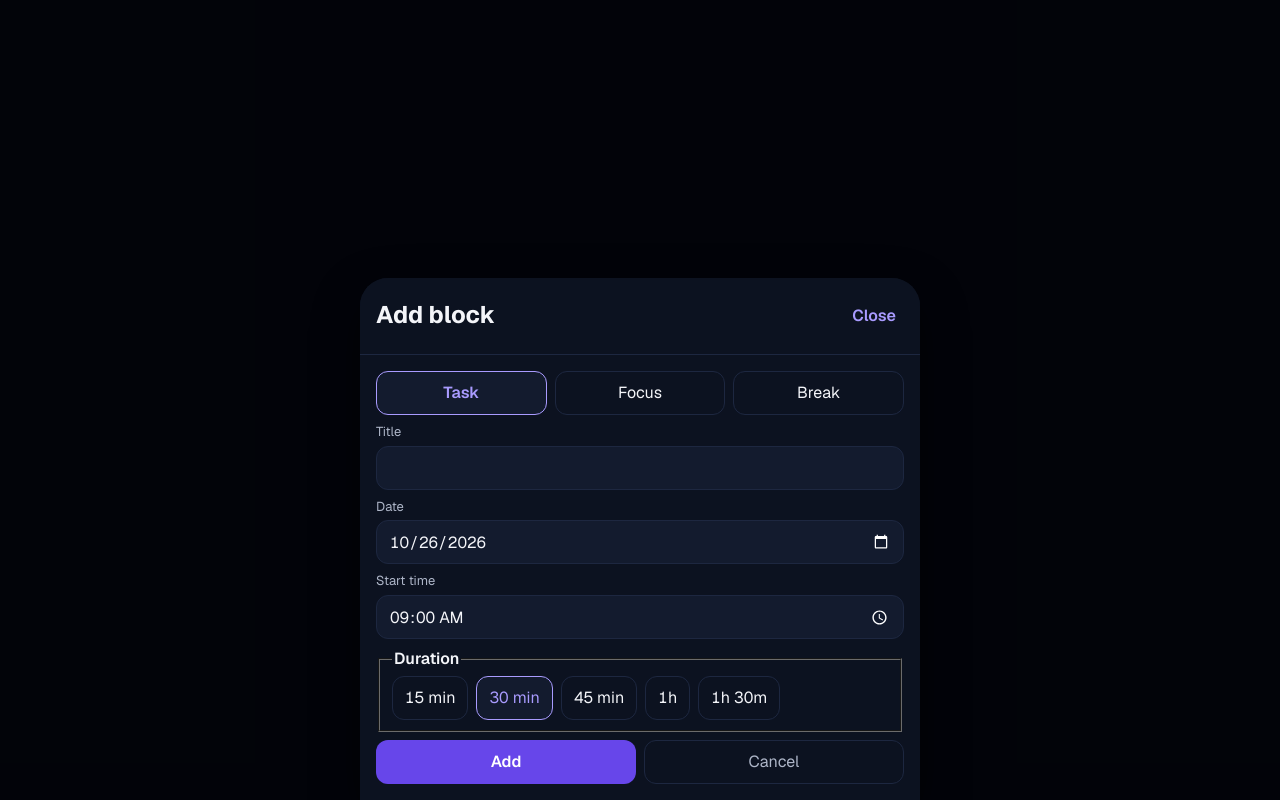
Scenario: keeps the sheet open and explains an empty title
Click the button "Add" at (506, 762), box [376,740,636,784]
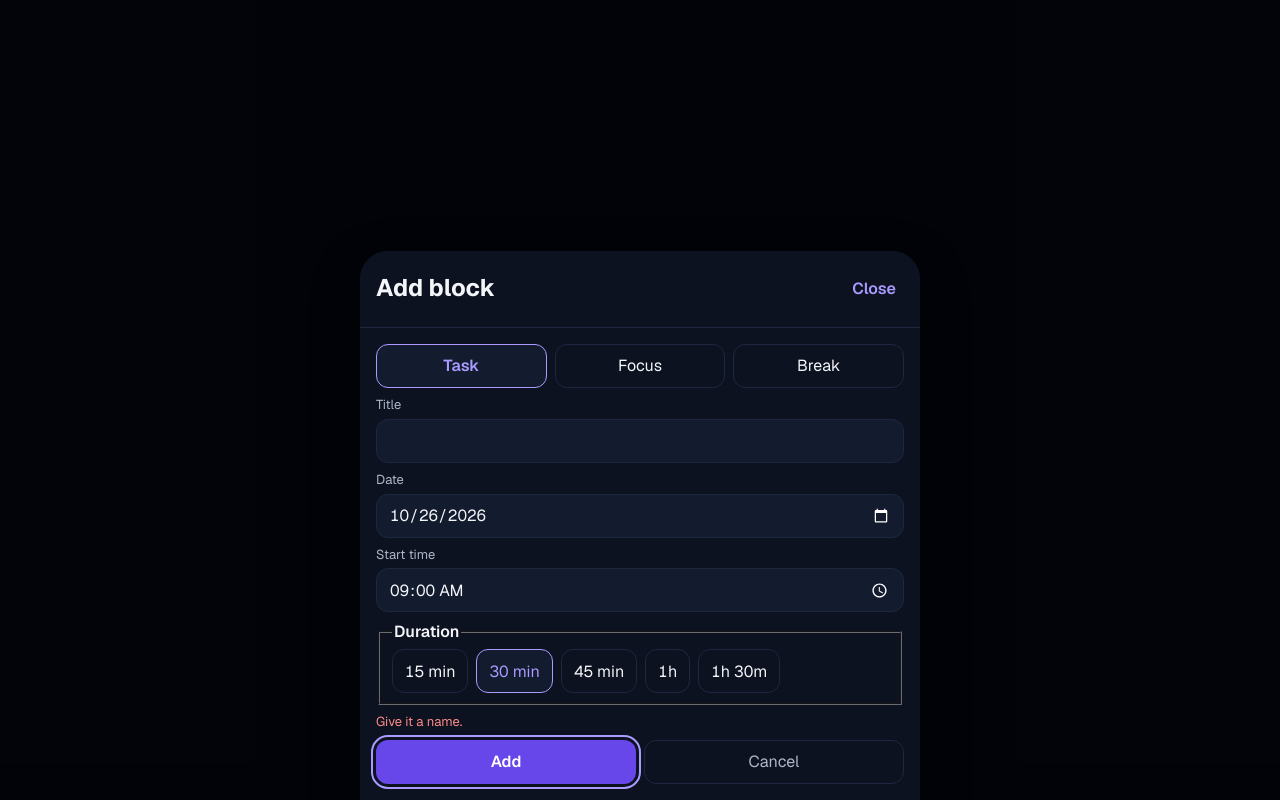
Check: the message reads "Give it a name.", box [376,713,462,730]
